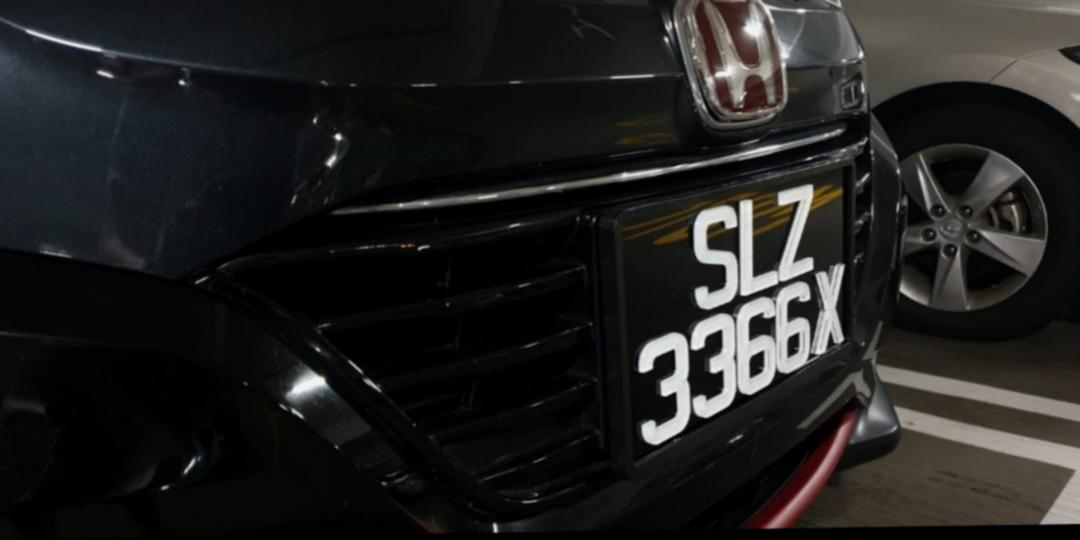License_Plate: (589, 152, 890, 469)
